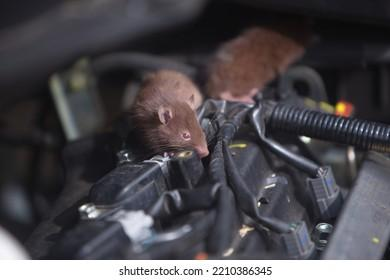rat: (137, 70, 211, 161)
